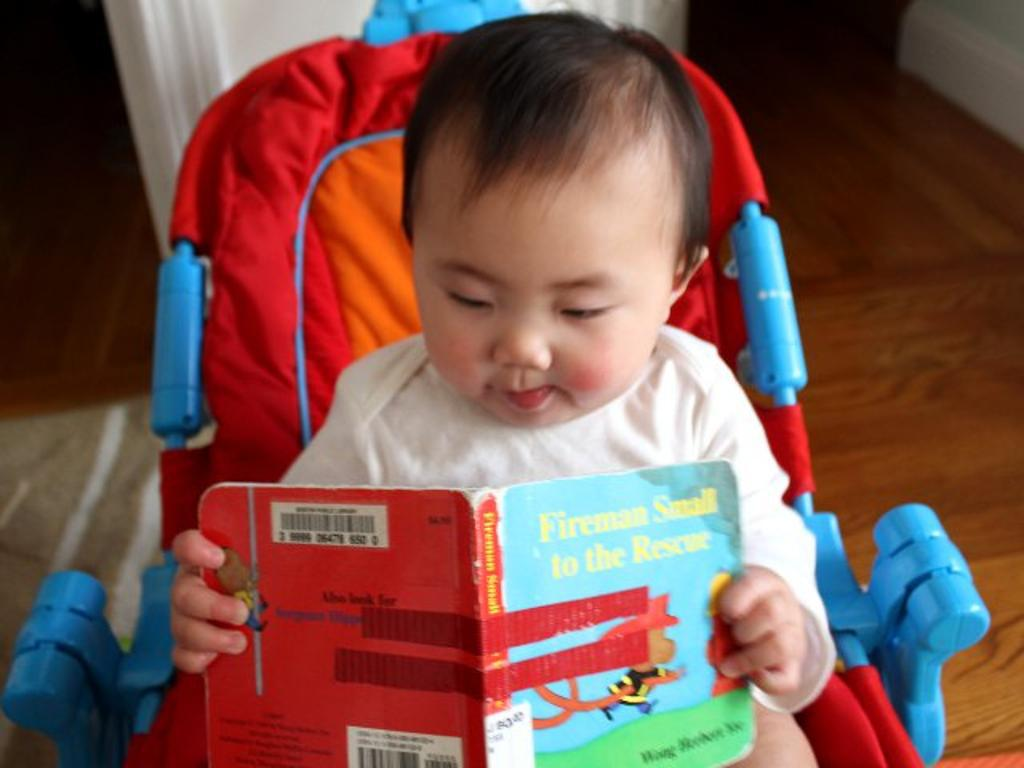face: (417, 153, 677, 427)
